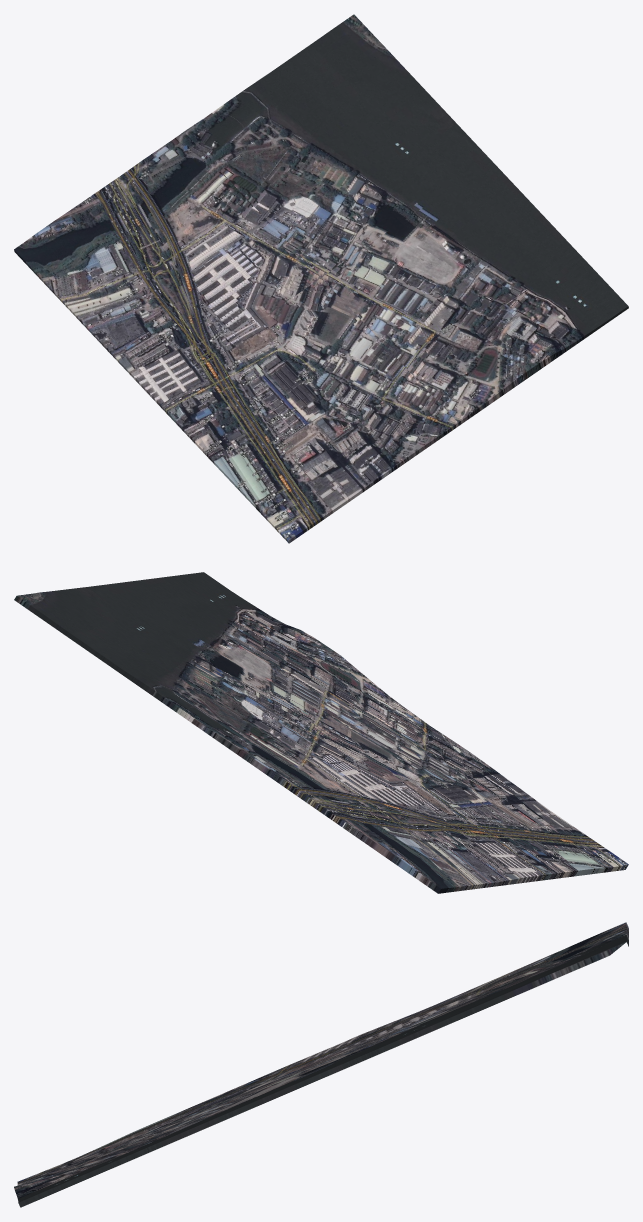
3 renders of one model, top to bottom at view 1: azimuth 30°, elevation 25°; view 2: azimuth 150°, elevation 25°; view 3: azimuth 270°, elevation 25°, orthographic. The views are drawn at different scales.
Visible parts, largest first — view 1: 1_0_1; view 2: 1_0_1; view 3: 1_0_1.
Boxes of the visible parts, x1,y1,x2,y2 form: 1_0_1: [14, 14, 628, 543]; 1_0_1: [14, 572, 628, 893]; 1_0_1: [14, 922, 628, 1207].
Size of the model in its own units: 1227 by 893 by 1130.
Materials: 1 (1 with a texture image).
